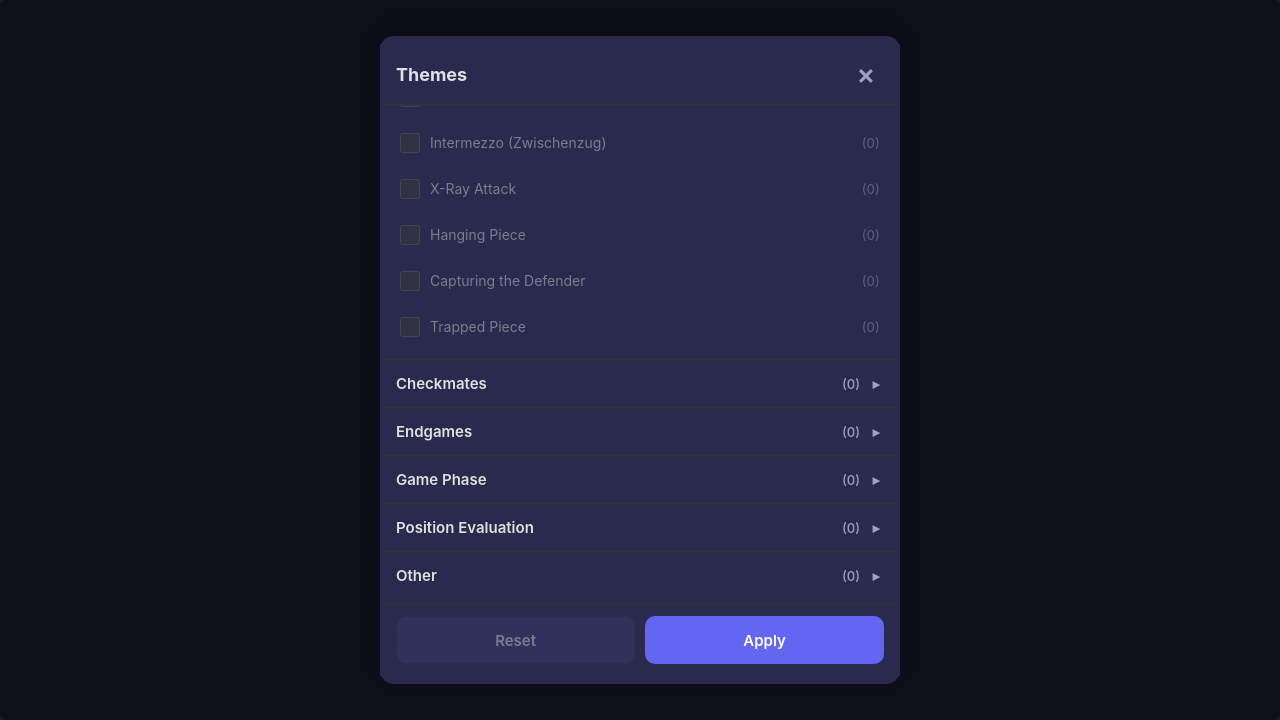
Test: <PrecisionThemesSheet> KS-3361 › клик по toggle секции разворачивает её
The width and height of the screenshot is (1280, 720).
(page scrolled)
Click the button with test id "precision-themes-sheet-group-toggle-mates": [441, 384] box [380,360,900,407]
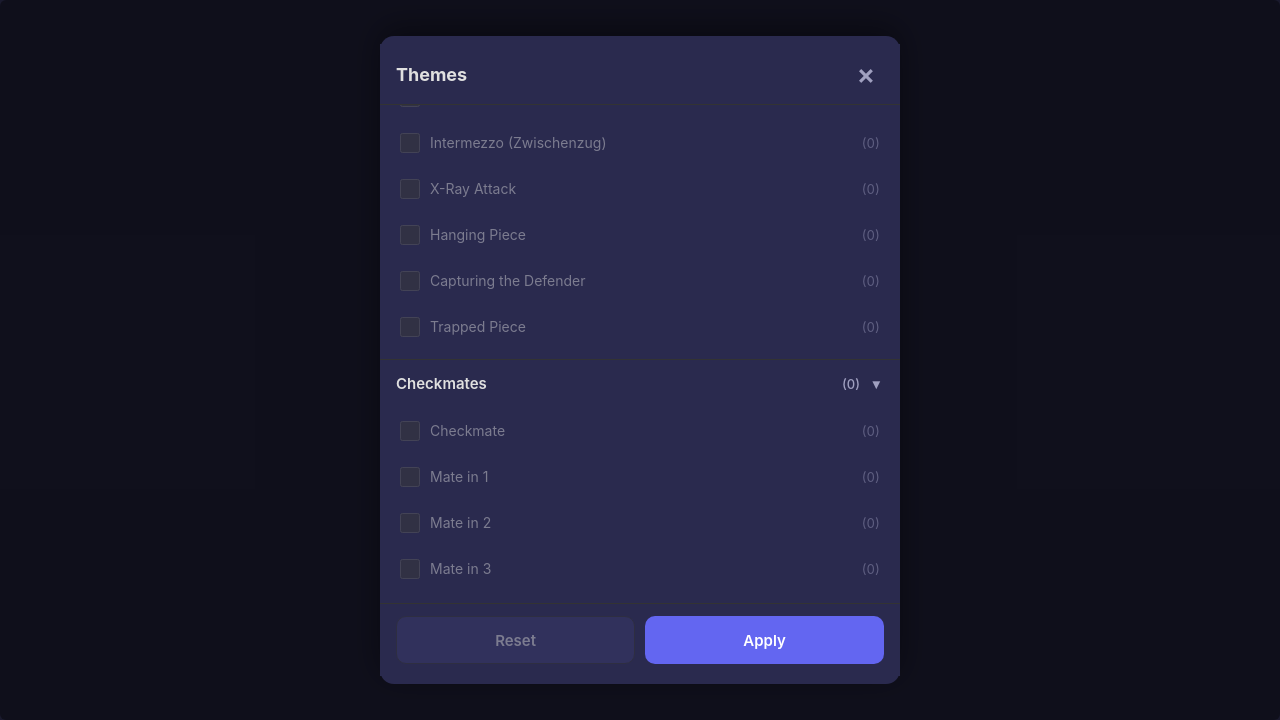
Expected: the checkbox with test id "precision-themes-sheet-checkbox-mateIn1" is shown, [400,467,420,487]
